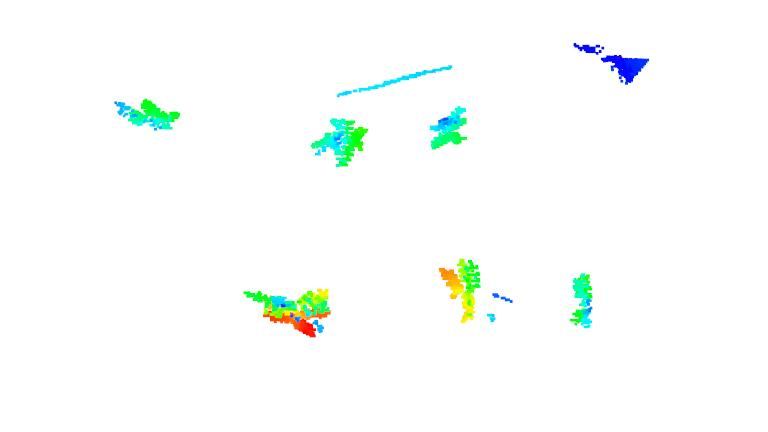chickpea: (242, 285, 332, 339), (436, 256, 482, 323), (310, 118, 371, 168), (112, 94, 180, 134), (424, 106, 471, 151), (569, 270, 596, 331)
